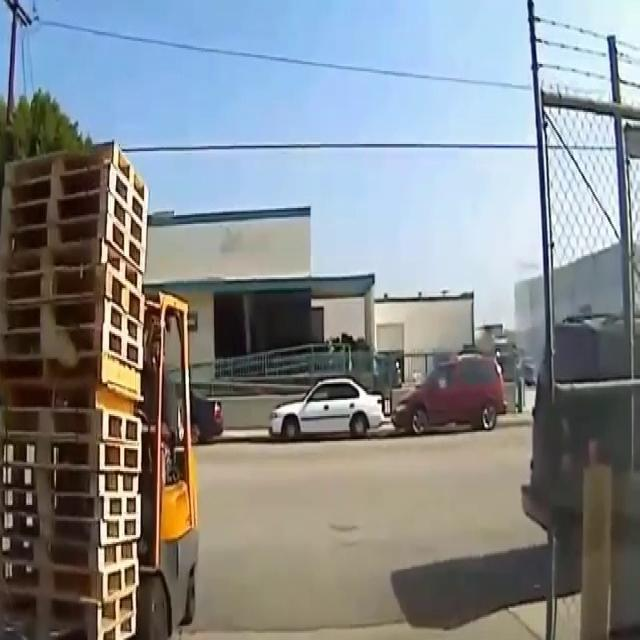forklift: (0, 146, 201, 633)
